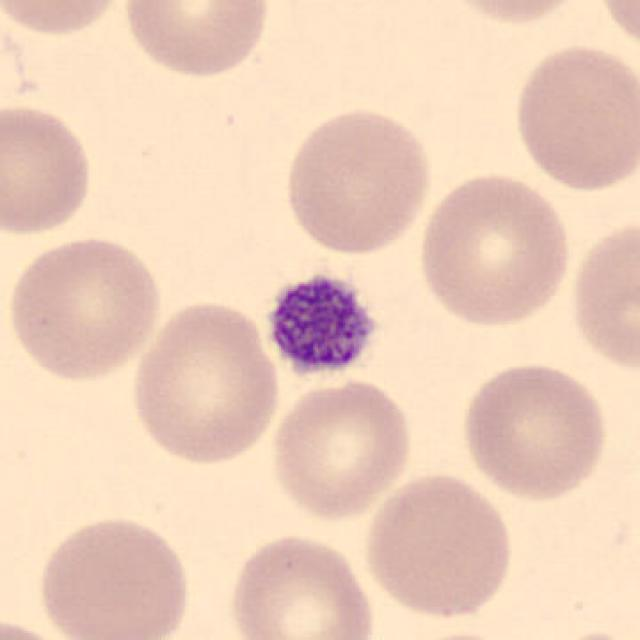Platelets: (261, 266, 384, 383)
RBC: (126, 294, 284, 469), (412, 170, 576, 332), (3, 231, 165, 384), (279, 102, 436, 258), (361, 469, 517, 622), (265, 374, 418, 524), (457, 358, 613, 504), (32, 511, 196, 640), (507, 39, 638, 194), (224, 529, 379, 640), (0, 99, 98, 240), (119, 0, 274, 81), (565, 212, 640, 379), (0, 0, 130, 41), (434, 0, 592, 28), (588, 0, 639, 56), (0, 610, 89, 640), (385, 627, 526, 640), (534, 626, 638, 640)
